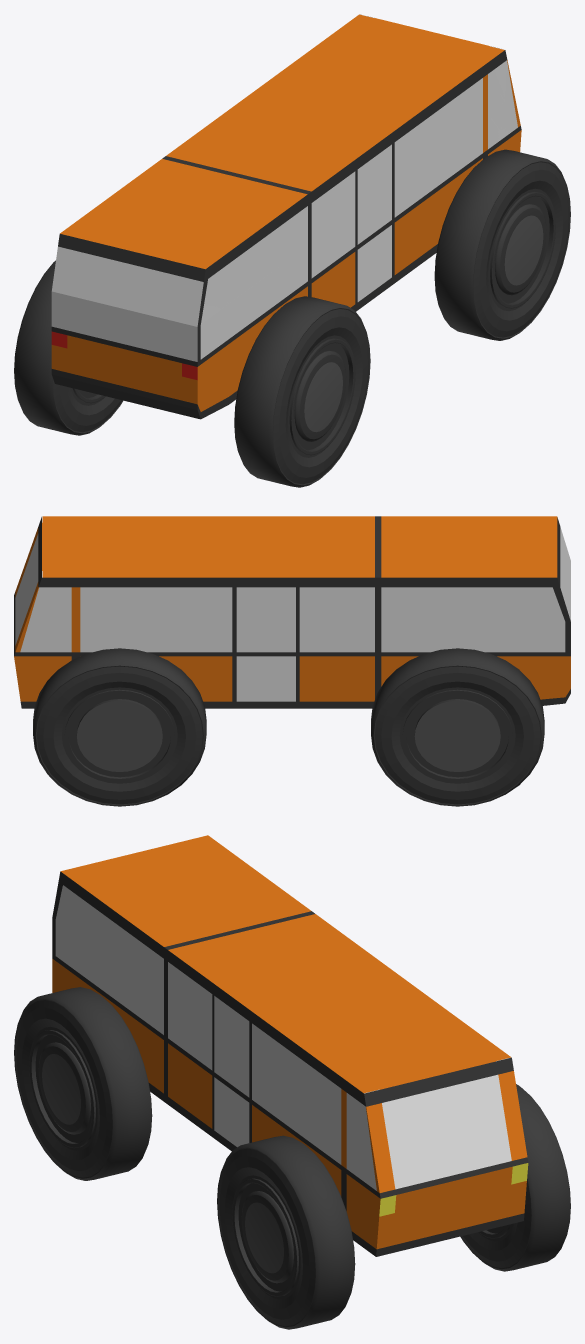
The model's file is monster-truck-bus.fbx.
3 views of the same model, one above another, from view 1: azimuth 30°, elevation 25°; view 2: azimuth 150°, elevation 25°; view 3: azimuth 270°, elevation 25° (orthographic). The views are drawn at different scales.
Visible parts, largest first — view 1: Monster Truck Bus, RR.003, FR.003, RL.003; view 2: Monster Truck Bus, FL.003, RL.003; view 3: Monster Truck Bus, RR.003, FR.003, FL.003.
Part boxes in pixels (x1,y1,x2,y2): Monster Truck Bus: (51,14,521,419); RR.003: (234,296,370,487); FR.003: (434,149,570,340); RL.003: (14,260,122,435); Monster Truck Bus: (14,516,570,708); FL.003: (33,648,206,806); RL.003: (371,648,544,806); Monster Truck Bus: (52,835,528,1256); RR.003: (14,987,152,1180); FR.003: (217,1135,355,1329); FL.003: (460,1084,570,1271).
Size of the model in its own units: 6.53 by 3.16 by 7.96.
